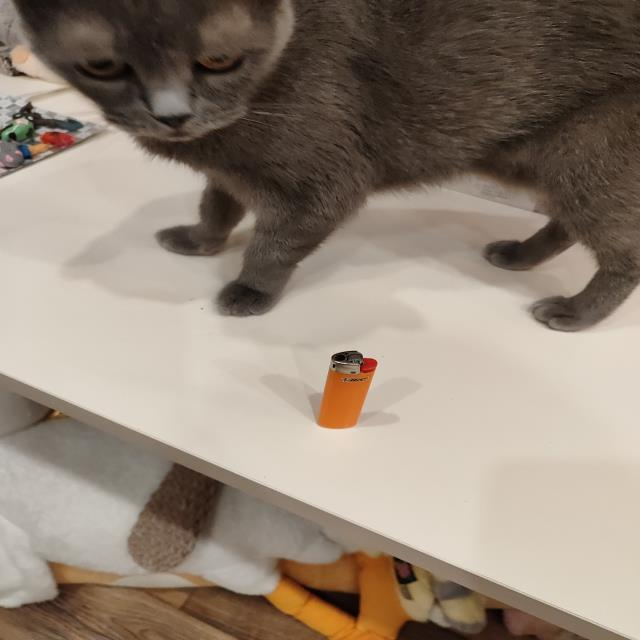lighter: (319, 351, 376, 429)
